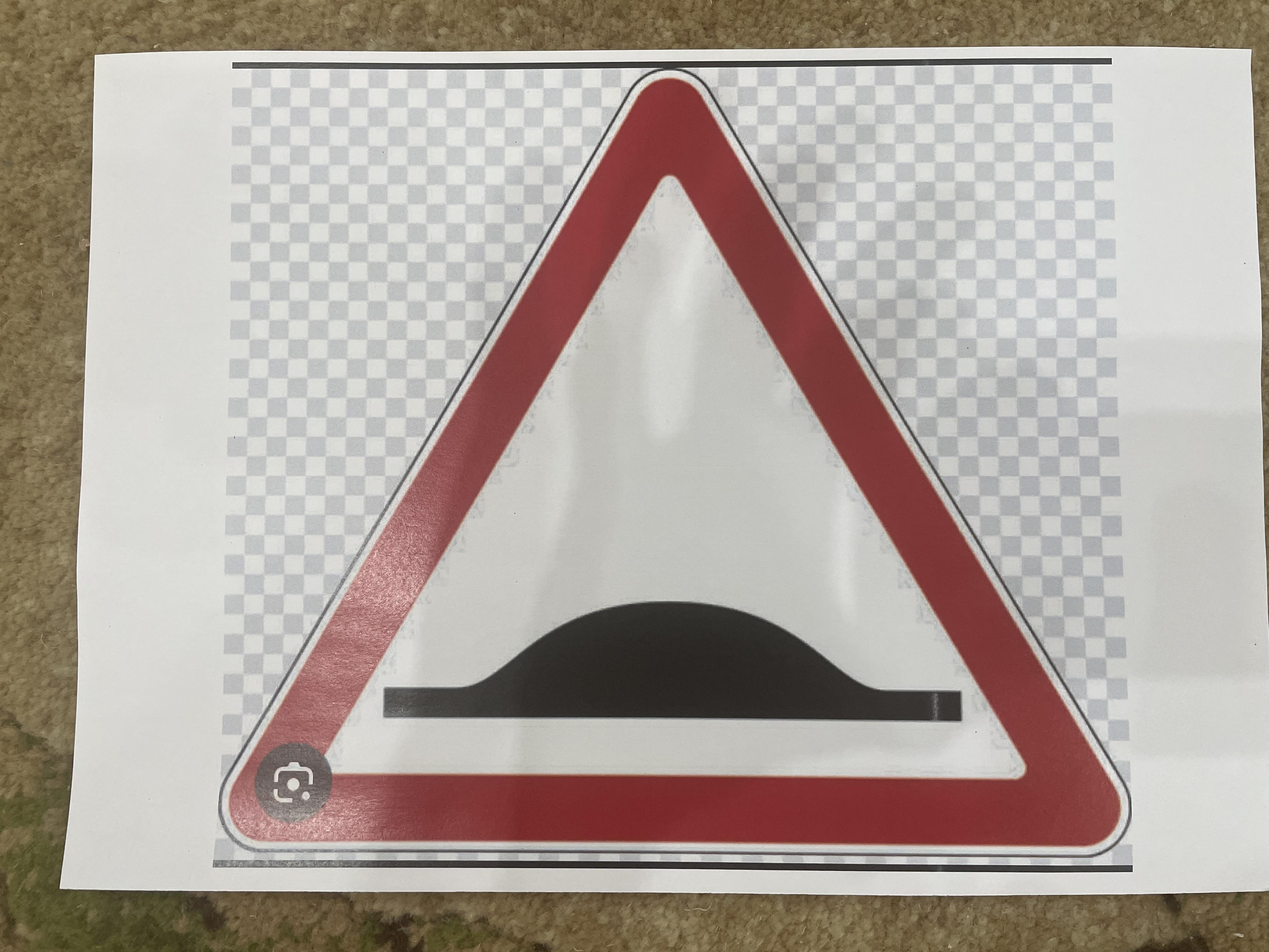Hump: (215, 63, 1143, 859)
